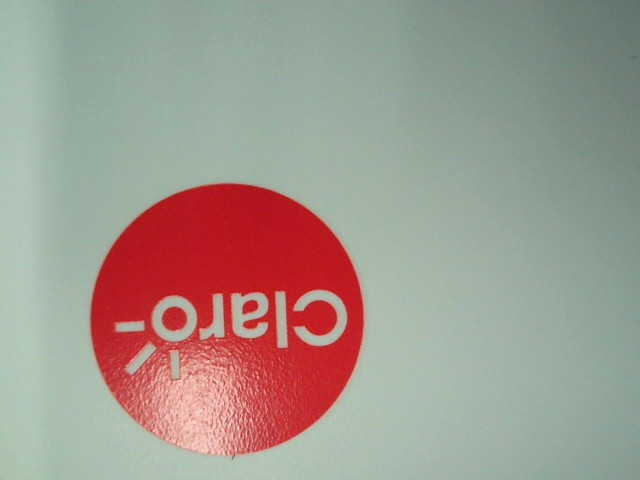BC_ClaorRed: (74, 177, 369, 460)
